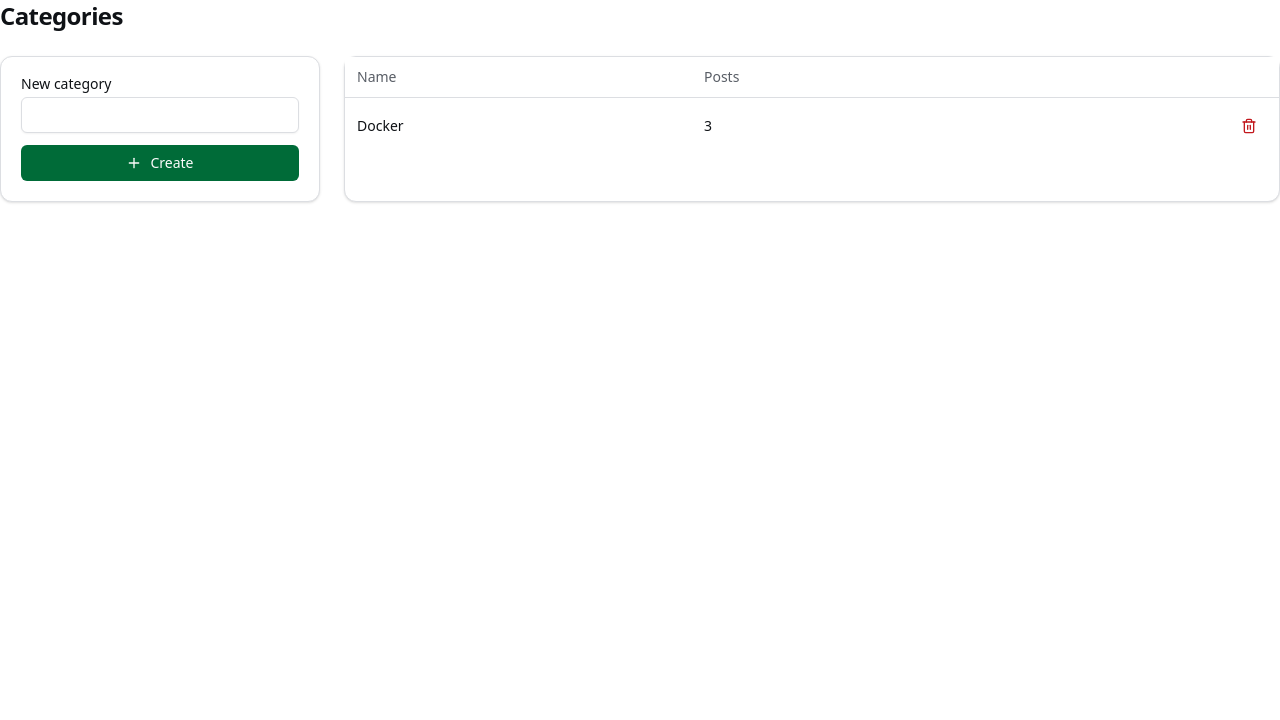
Test: CategoriesPage › creates and deletes
The width and height of the screenshot is (1280, 720).
Step 1. Type "Go" into the field labelled "New category" → {"x": 160, "y": 115}, box top-left (21, 97), bottom-right (299, 133)
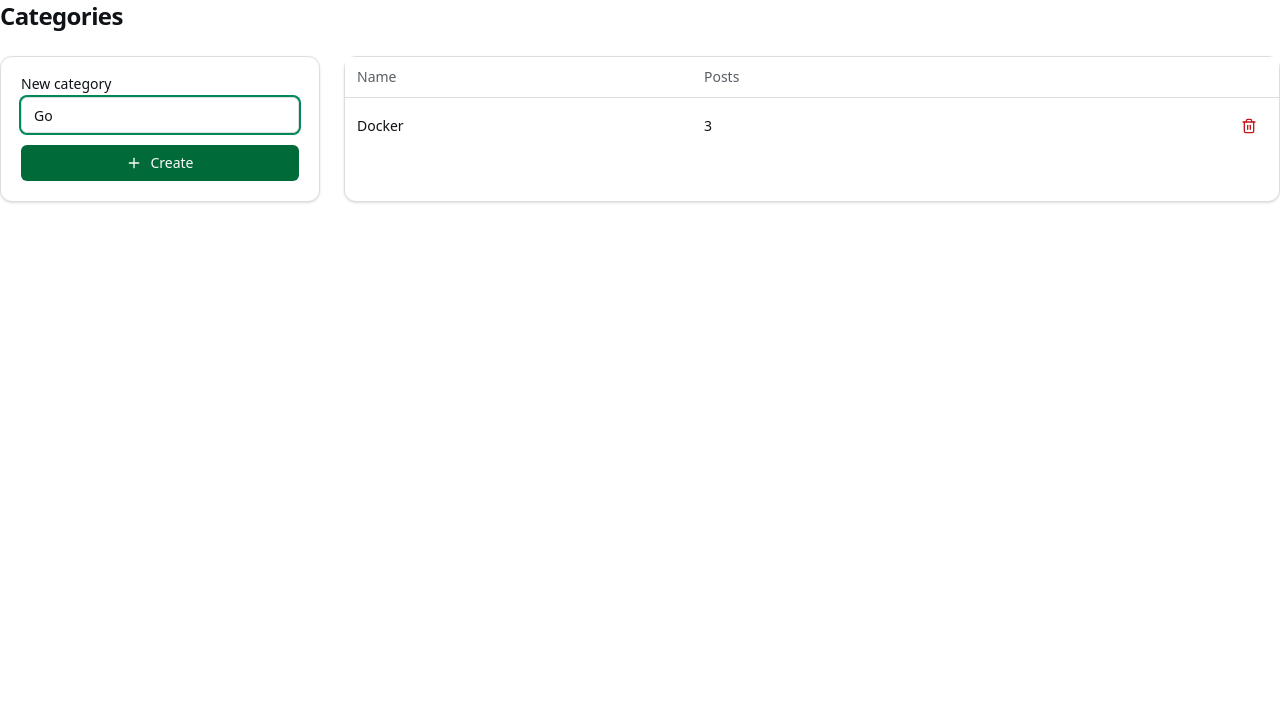
Step 2. Click the button "Create" → {"x": 160, "y": 163}, box top-left (21, 145), bottom-right (299, 181)
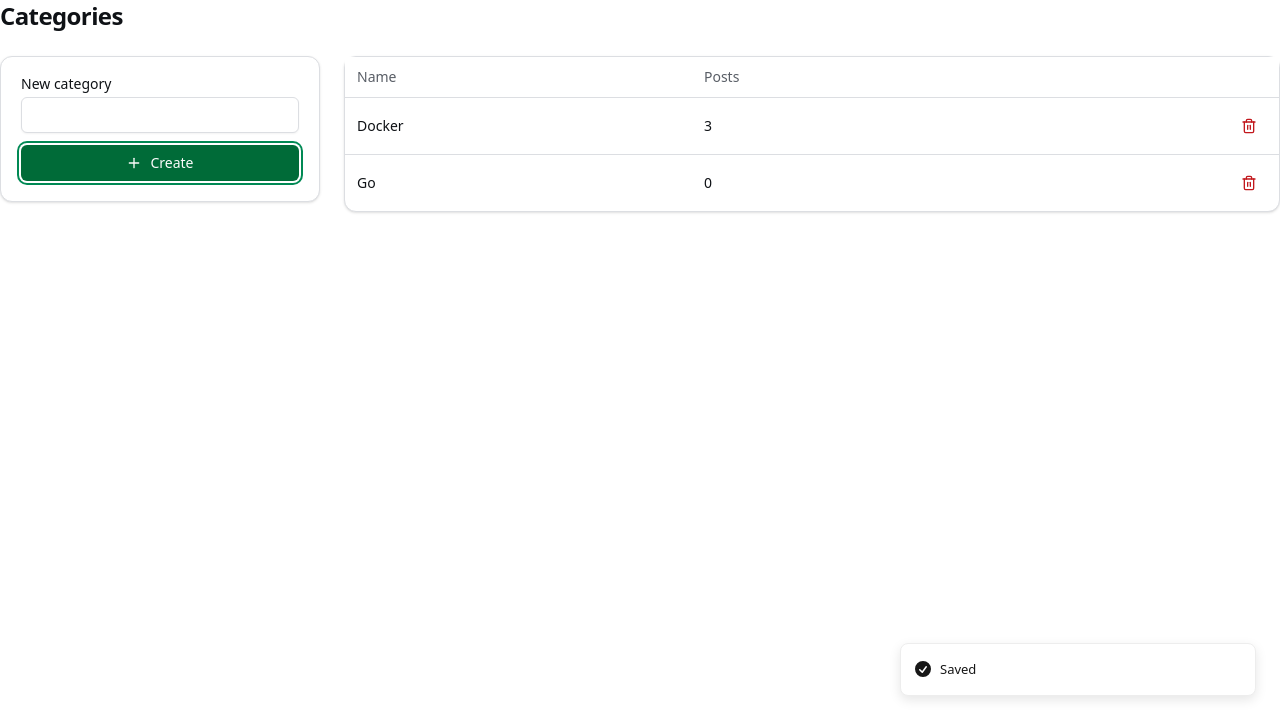
Expected: the link "Go" is shown, top-left (357, 172), bottom-right (376, 192)
Step 3. Click the button named "Delete: Docker" → {"x": 1249, "y": 126}, box top-left (1231, 108), bottom-right (1267, 144)
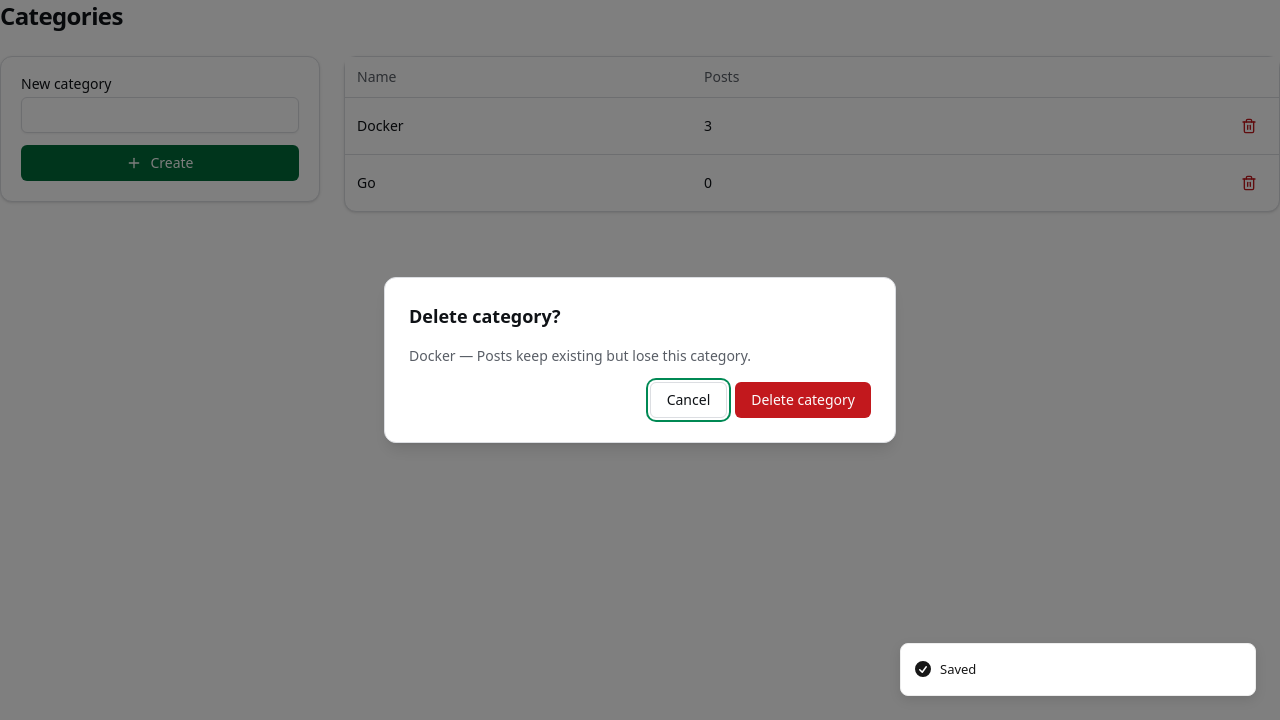
Step 4. Click the button "Delete category" → {"x": 803, "y": 400}, box top-left (735, 382), bottom-right (871, 418)
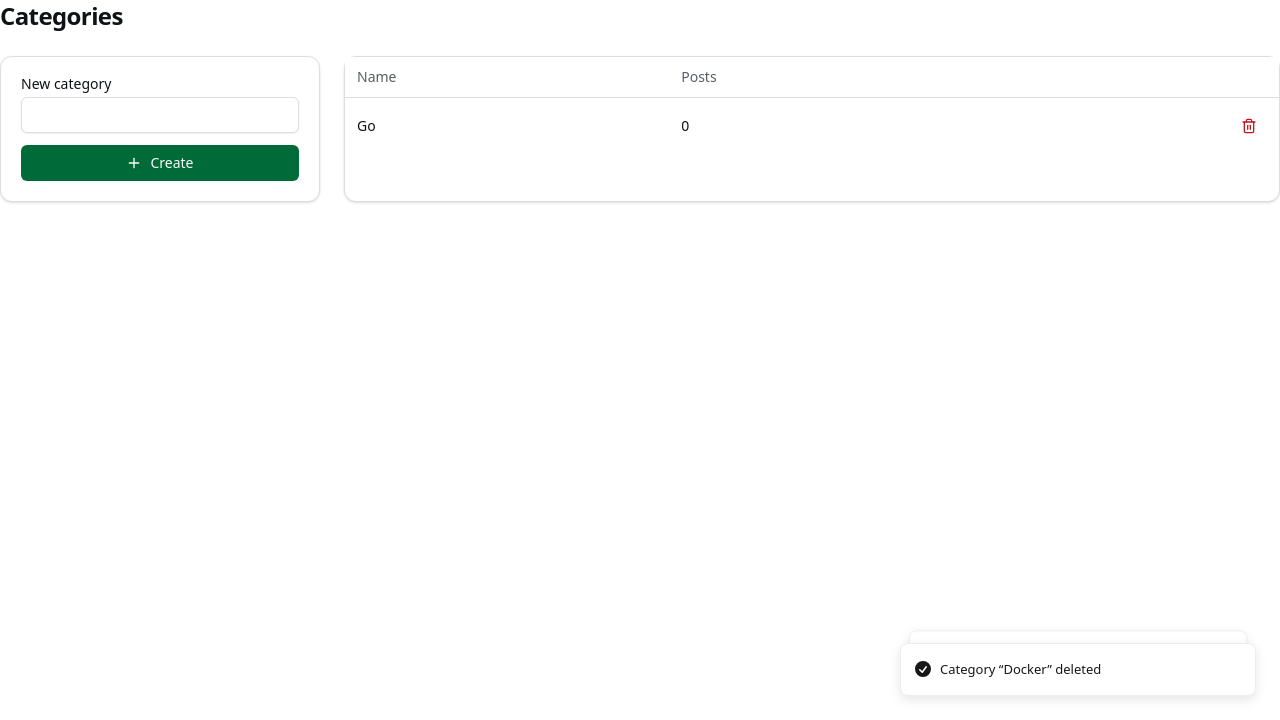
Expected: the text "Category “Docker” deleted" is shown, top-left (940, 660), bottom-right (1101, 679)
